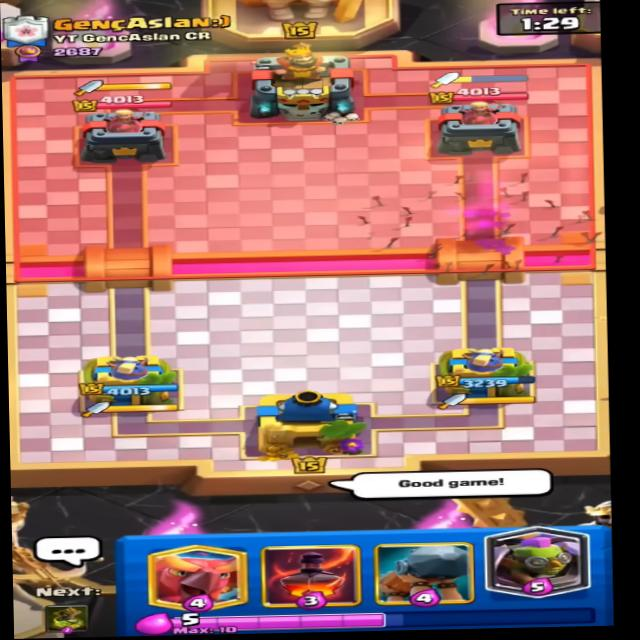arrows: (343, 162, 609, 286)
